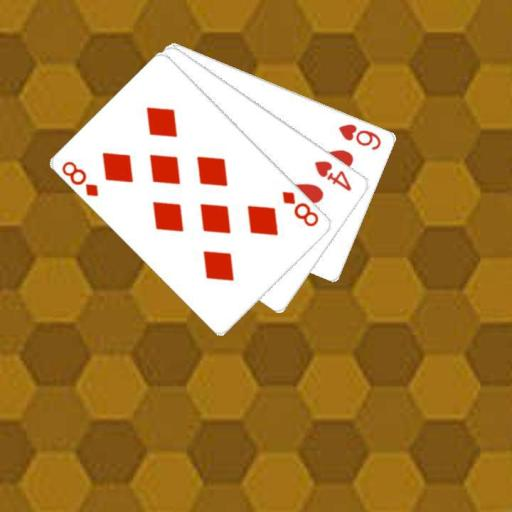4H: (312, 157, 354, 193)
6H: (336, 120, 383, 152)
8D: (279, 188, 321, 228), (59, 158, 101, 198)
